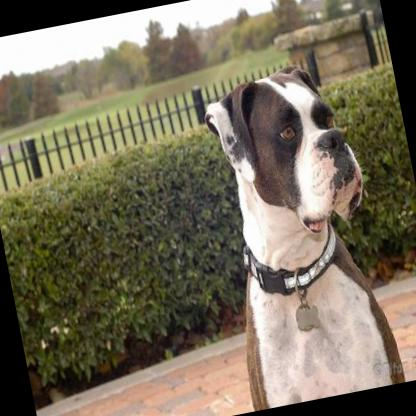boxer: (181, 48, 408, 410)
